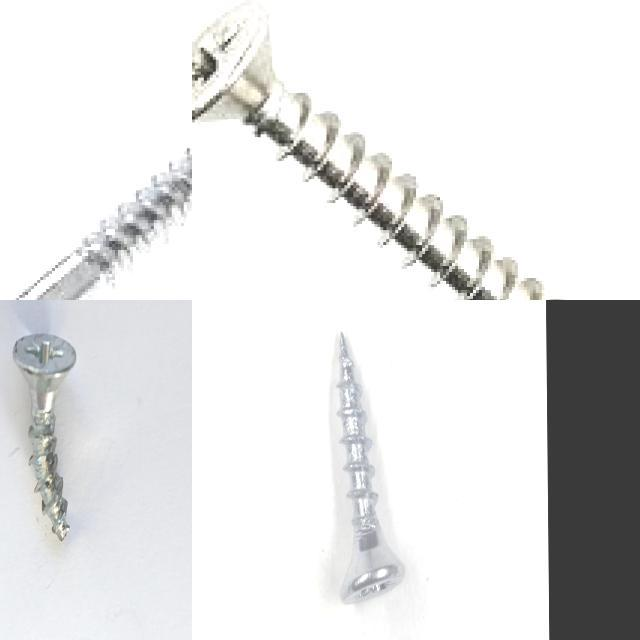Screw: (192, 0, 557, 300), (14, 146, 192, 300), (338, 332, 405, 603), (13, 333, 76, 540)
